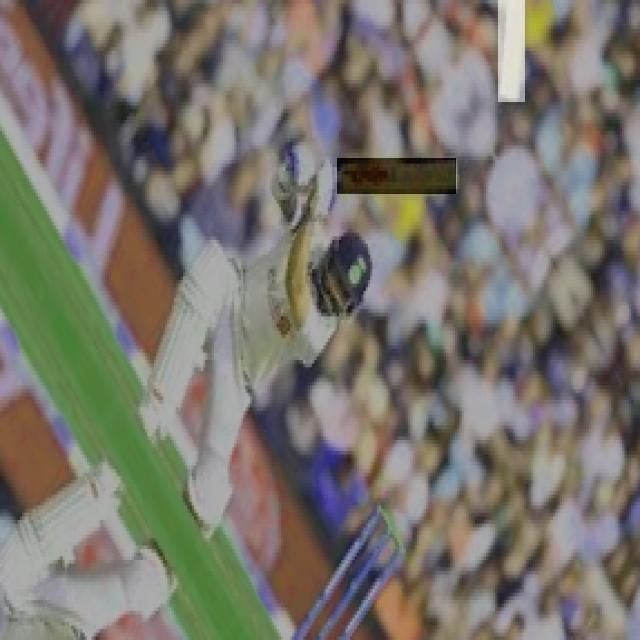bat: (332, 158, 462, 196)
toe: (446, 152, 464, 203)
